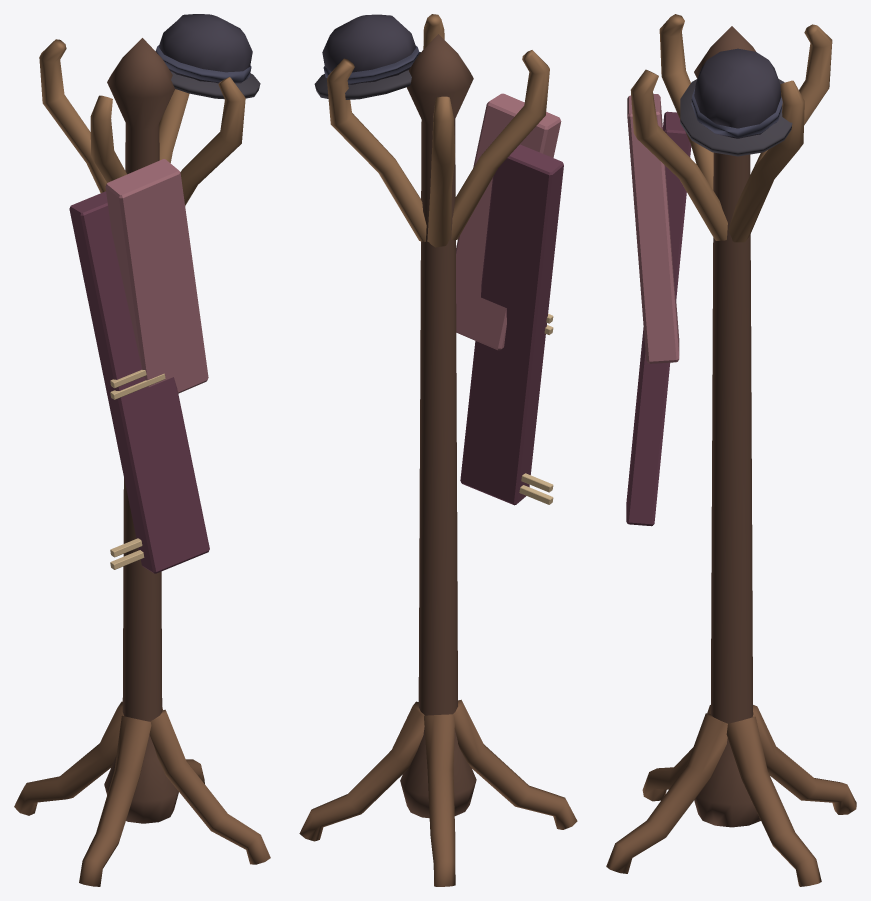
File: coat_stand.glb
3 renders of one model, left to right at view 1: azimuth 30°, elevation 25°; view 2: azimuth 150°, elevation 25°; view 3: azimuth 270°, elevation 25°, orthographic. The views are drawn at different scales.
Visible parts, largest first — view 1: coat_stand; view 2: coat_stand; view 3: coat_stand.
Boxes of the visible parts, x1,y1,x2,y2 form: coat_stand: [14, 14, 270, 886]; coat_stand: [299, 14, 577, 886]; coat_stand: [606, 14, 856, 886].
Size of the model in its own units: 0.5 by 1.8 by 0.5.
